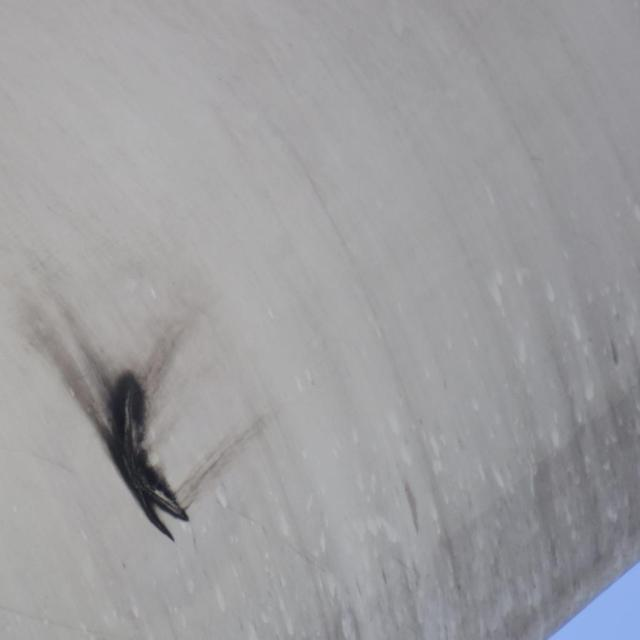crack: (91, 362, 200, 546)
